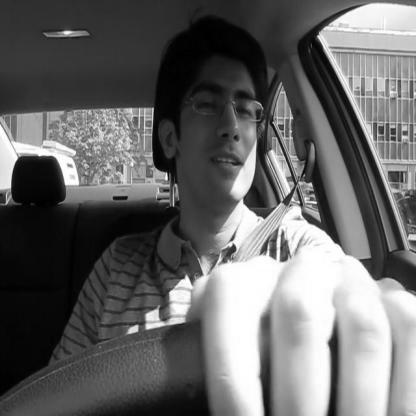seatbelt: (152, 0, 319, 416)
